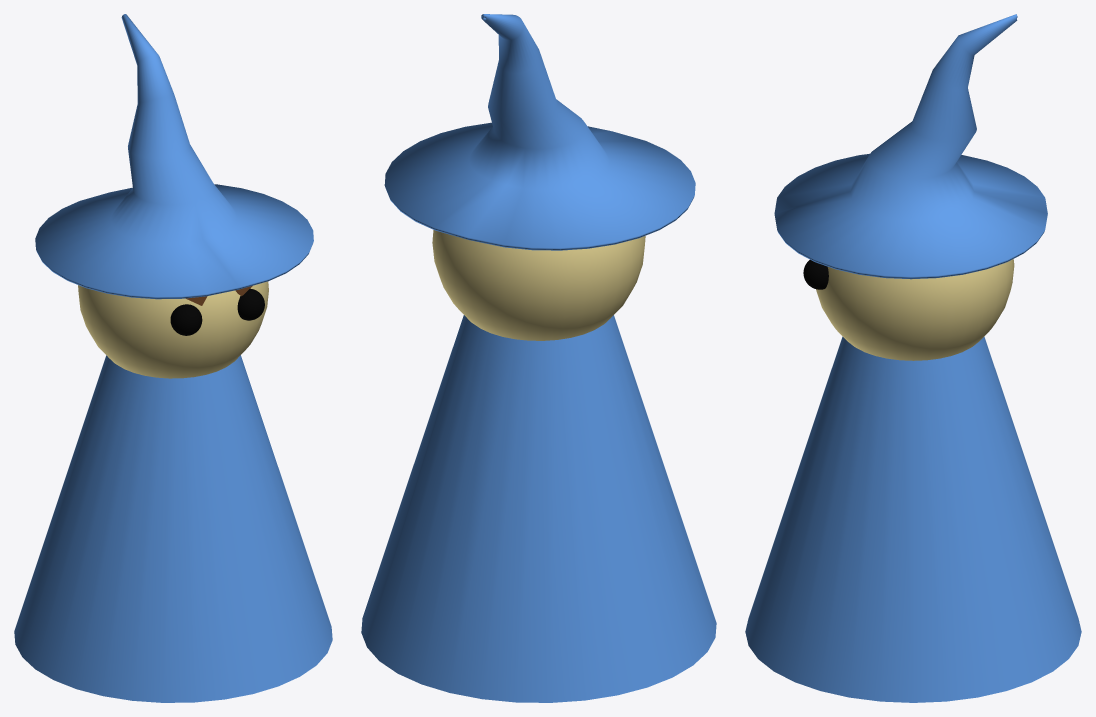
The model's file is mage.glb.
3 renders of one model, left to right at view 1: azimuth 30°, elevation 25°; view 2: azimuth 150°, elevation 25°; view 3: azimuth 270°, elevation 25°, orthographic. The views are drawn at different scales.
Parts seen in each view (by area): view 1: Mage; view 2: Mage; view 3: Mage.
Part boxes in pixels (x1,y1,x2,y2): Mage: (14,14,332,702); Mage: (361,14,716,702); Mage: (745,14,1081,702).
Size of the model in its own units: 1 by 2.03 by 1.
